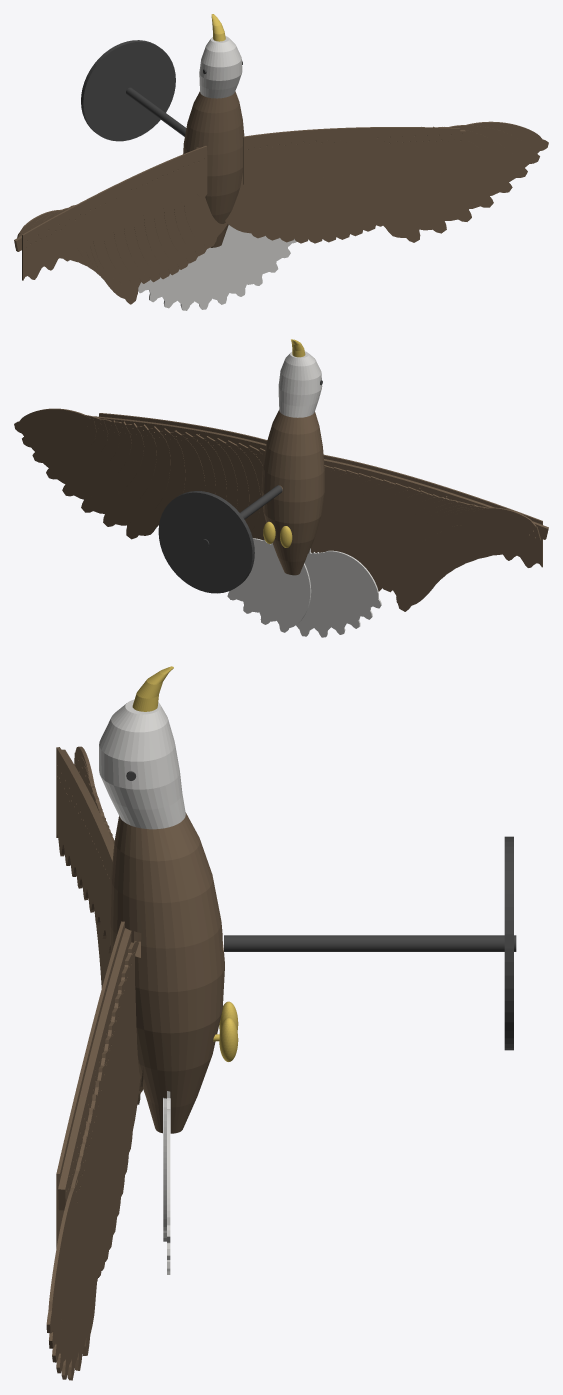
The model's file is eagle_assembled.glb.
The picture shows the model from 3 angles, top to bottom: view 1: azimuth 30°, elevation 25°; view 2: azimuth 150°, elevation 25°; view 3: azimuth 270°, elevation 25°; orthographic projection. The views are drawn at different scales.
Parts seen in each view (by area): view 1: stand_base, wing_R_covert_inner, wing_R_covert_outer, wing_L_covert_inner, wing_L_covert_outer, body_front, tail_R, tail_L, head, wing_R_s01, wing_R_p01, body_rear (+28 smaller); view 2: stand_base, tail_L, body_front, tail_R, wing_L_p08, wing_R_p08, body_rear, head, wing_R_p02, wing_R_p03, wing_R_p01, wing_R_p04 (+33 smaller); view 3: body_front, body_rear, head, stand_column, wing_L_covert_outer, wing_R_p08, wing_L_covert_inner, stand_base, wing_R_spar_outer, wing_R_p01, wing_R_p02, wing_R_spar_inner (+15 smaller).
Part boxes in pixels (box(x1,y1,x2,y2)): stand_base: box(81, 40, 175, 141); wing_R_covert_inner: box(243, 127, 354, 187); wing_R_covert_outer: box(353, 127, 460, 179); wing_L_covert_inner: box(111, 146, 207, 235); wing_L_covert_outer: box(22, 186, 114, 280); body_front: box(183, 91, 244, 176); tail_R: box(212, 225, 296, 304); tail_L: box(138, 243, 223, 310); head: box(199, 36, 242, 98); wing_R_s01: box(225, 173, 277, 238); wing_R_p01: box(383, 170, 421, 242); body_rear: box(205, 167, 242, 247); stand_base: box(158, 491, 254, 593); tail_L: box(296, 548, 381, 637); body_front: box(261, 410, 324, 502); tail_R: box(227, 538, 311, 632); wing_L_p08: box(443, 507, 540, 555); wing_R_p08: box(14, 408, 96, 456); body_rear: box(261, 490, 324, 575); head: box(278, 351, 322, 417); wing_R_p02: box(103, 426, 170, 526); wing_R_p03: box(81, 424, 156, 513); wing_R_p01: box(126, 428, 185, 539); wing_R_p04: box(62, 423, 144, 499); body_front: box(110, 812, 224, 992); body_rear: box(135, 967, 224, 1133); head: box(99, 699, 185, 829); stand_column: box(224, 935, 516, 951); wing_L_covert_outer: box(56, 747, 91, 900); wing_R_p08: box(46, 1179, 78, 1334); wing_L_covert_inner: box(88, 805, 113, 953); stand_base: box(504, 836, 513, 1050); wing_R_spar_outer: box(58, 1047, 99, 1210); wing_R_p01: box(82, 1080, 106, 1355); wing_R_p02: box(75, 1094, 101, 1370); wing_R_spar_inner: box(91, 928, 131, 1066).
Bounding box in the file's own units: 1031 × 541 × 395.
